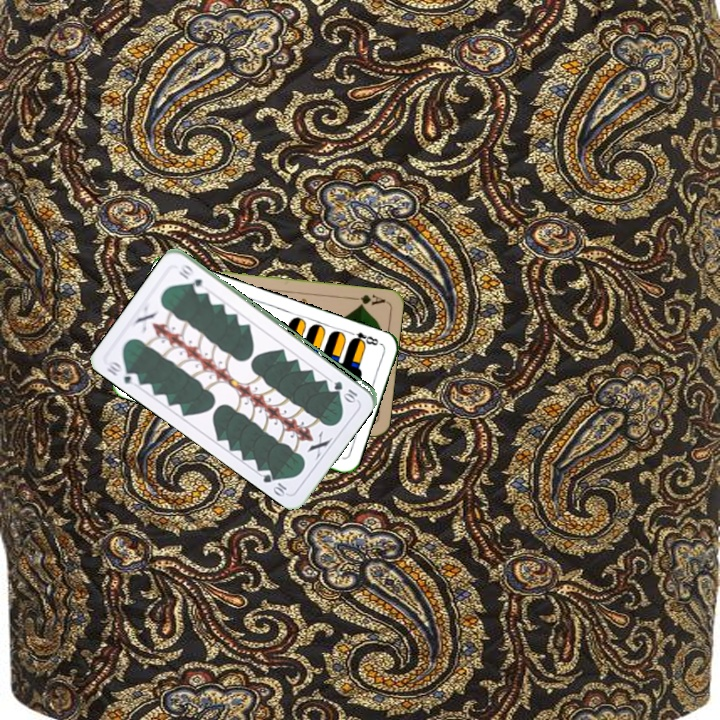E8: (344, 327, 383, 348)
G10: (103, 357, 142, 388), (330, 377, 360, 403)
GA: (347, 290, 388, 309)
